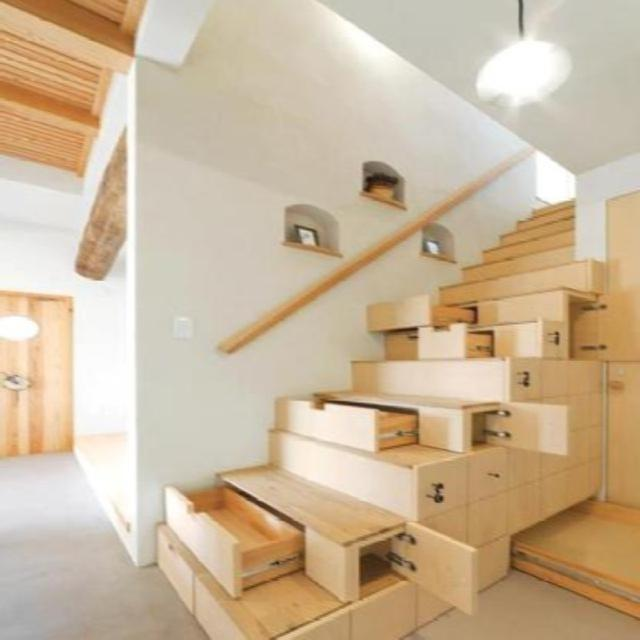stair: (89, 131, 640, 638)
